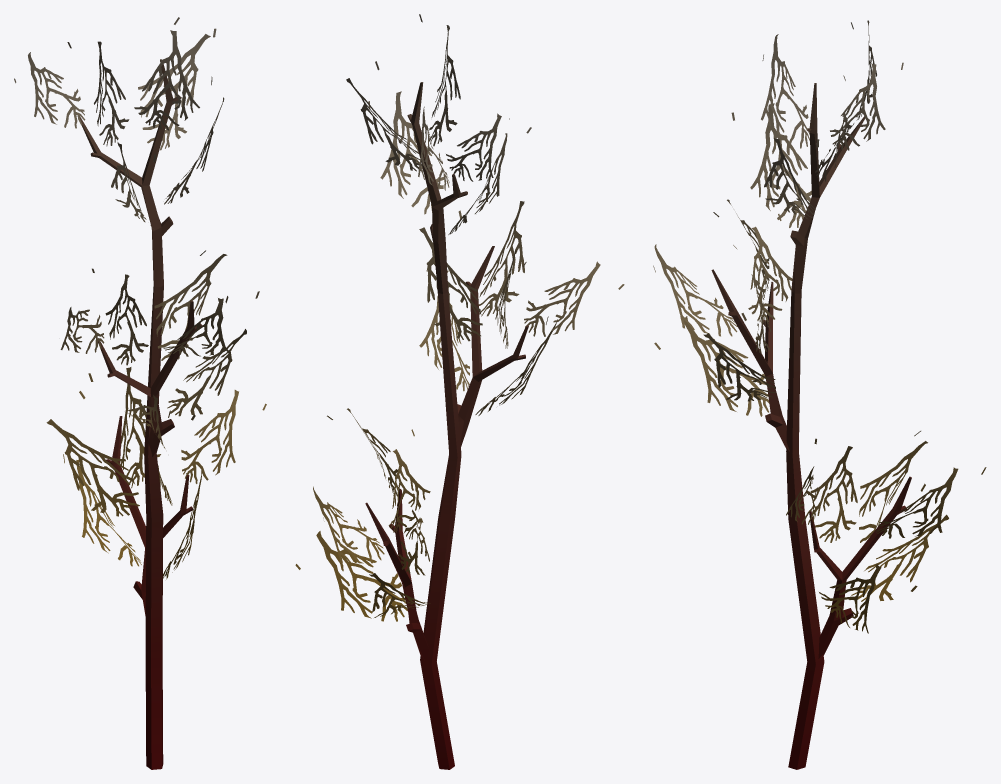
The model's file is synty-tree-dead-01.gltf.
The picture shows the model from 3 angles, left to right: view 1: azimuth 30°, elevation 25°; view 2: azimuth 150°, elevation 25°; view 3: azimuth 270°, elevation 25°; orthographic projection.
Parts seen in each view (by area): view 1: SM_Tree_Dead_01; view 2: SM_Tree_Dead_01; view 3: SM_Tree_Dead_01.
Part boxes in pixels (x1=…): SM_Tree_Dead_01: x1=14, y1=17, x2=266, y2=769; SM_Tree_Dead_01: x1=295, y1=14, x2=624, y2=769; SM_Tree_Dead_01: x1=653, y1=20, x2=986, y2=769.
Size of the model in its own units: 1.25 by 3.5 by 1.42.
Materials: 2 (2 with a texture image).
